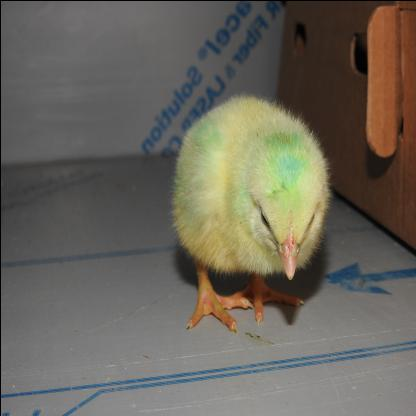Chickrotationtrack_idkeyframe: (176, 77, 339, 332)
